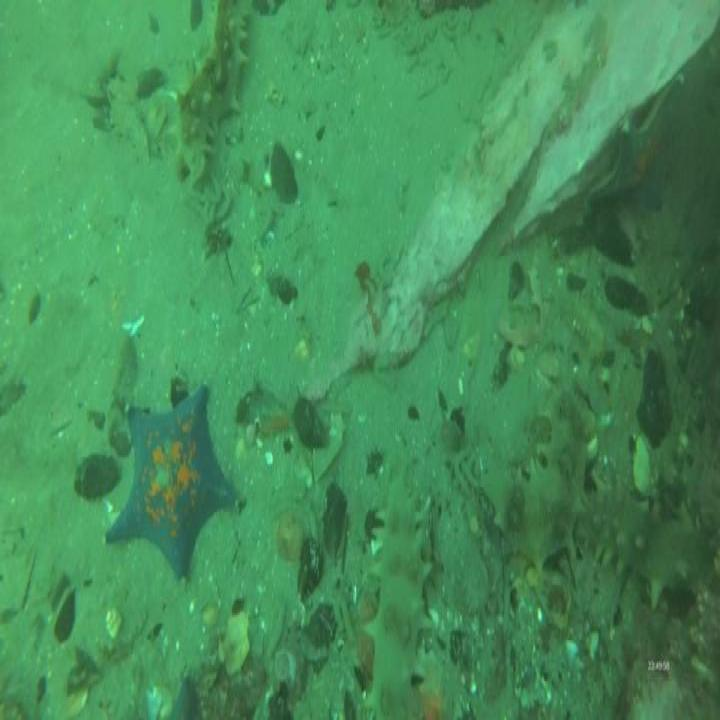holothurian: (477, 377, 595, 576), (584, 464, 712, 610), (366, 471, 435, 720), (172, 0, 249, 194)
starfish: (101, 377, 241, 587), (580, 68, 689, 212)
